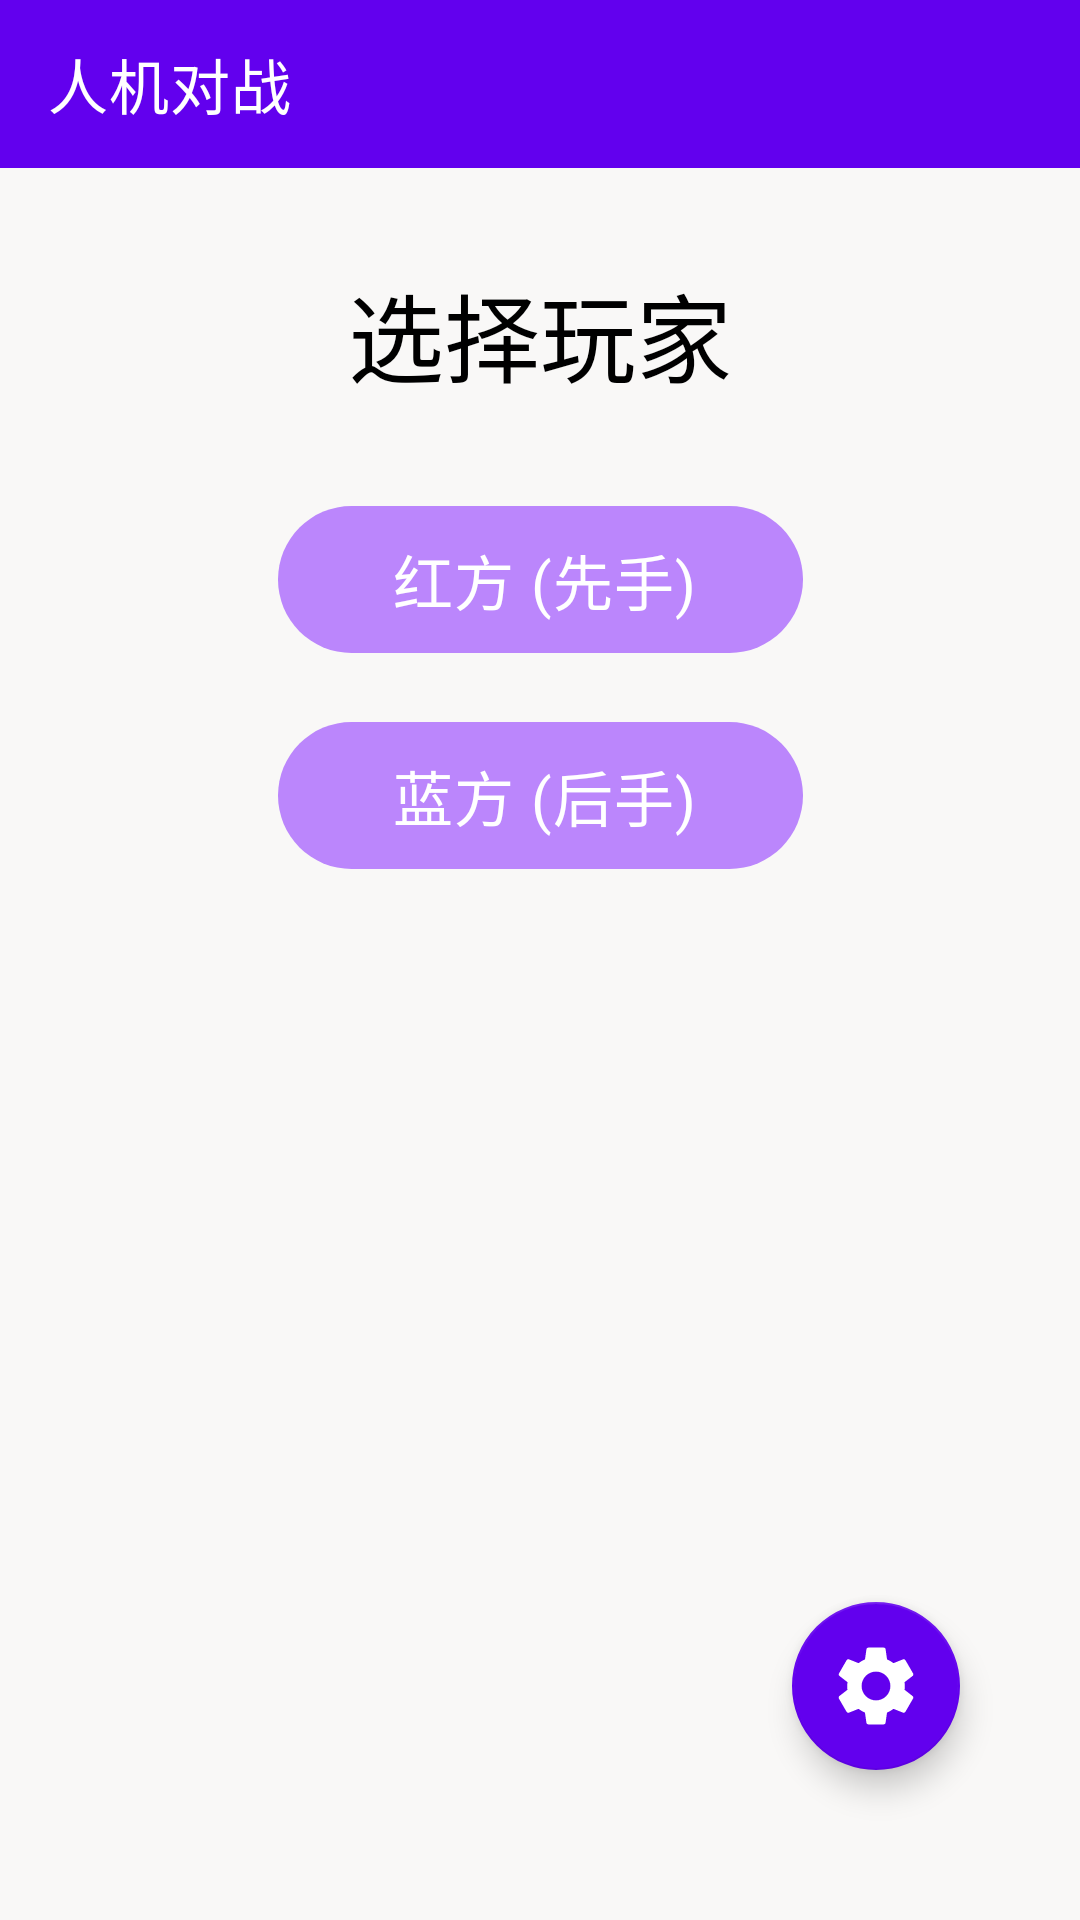

Named icons in this screenshot (1080px×1920px) and their bounding boxes, bbox(x1, y1, x2, y2):
settings: bbox(792, 1602, 960, 1770)
